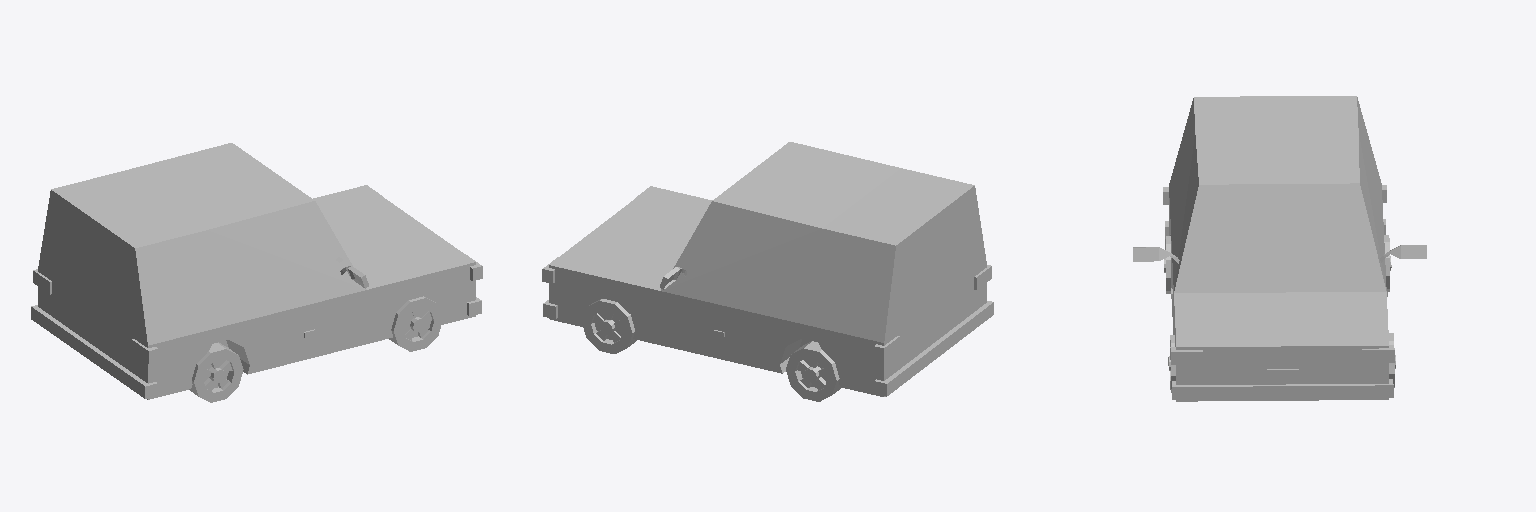
The model's file is Carro2.obj.
3 views of the same model, side by side, from view 1: azimuth 30°, elevation 25°; view 2: azimuth 150°, elevation 25°; view 3: azimuth 270°, elevation 25° (orthographic).
Parts seen in each view (by area): view 1: Carro3:pasted__race_5group76; view 2: Carro3:pasted__race_5group76; view 3: Carro3:pasted__race_5group76.
Boxes of the visible parts, box(x1,y1,x2,y2) form: Carro3:pasted__race_5group76: box(31, 143, 482, 402); Carro3:pasted__race_5group76: box(542, 142, 993, 401); Carro3:pasted__race_5group76: box(1133, 96, 1426, 401).
Bounding box in the file's own units: 3.08 × 1.38 × 2.28.